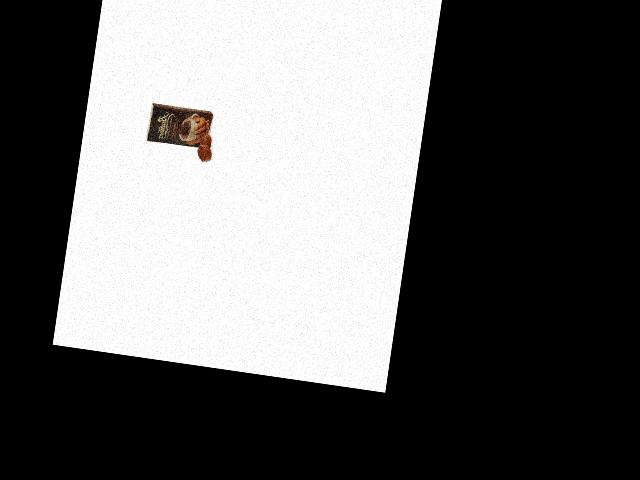chocolate: (143, 100, 215, 155)
